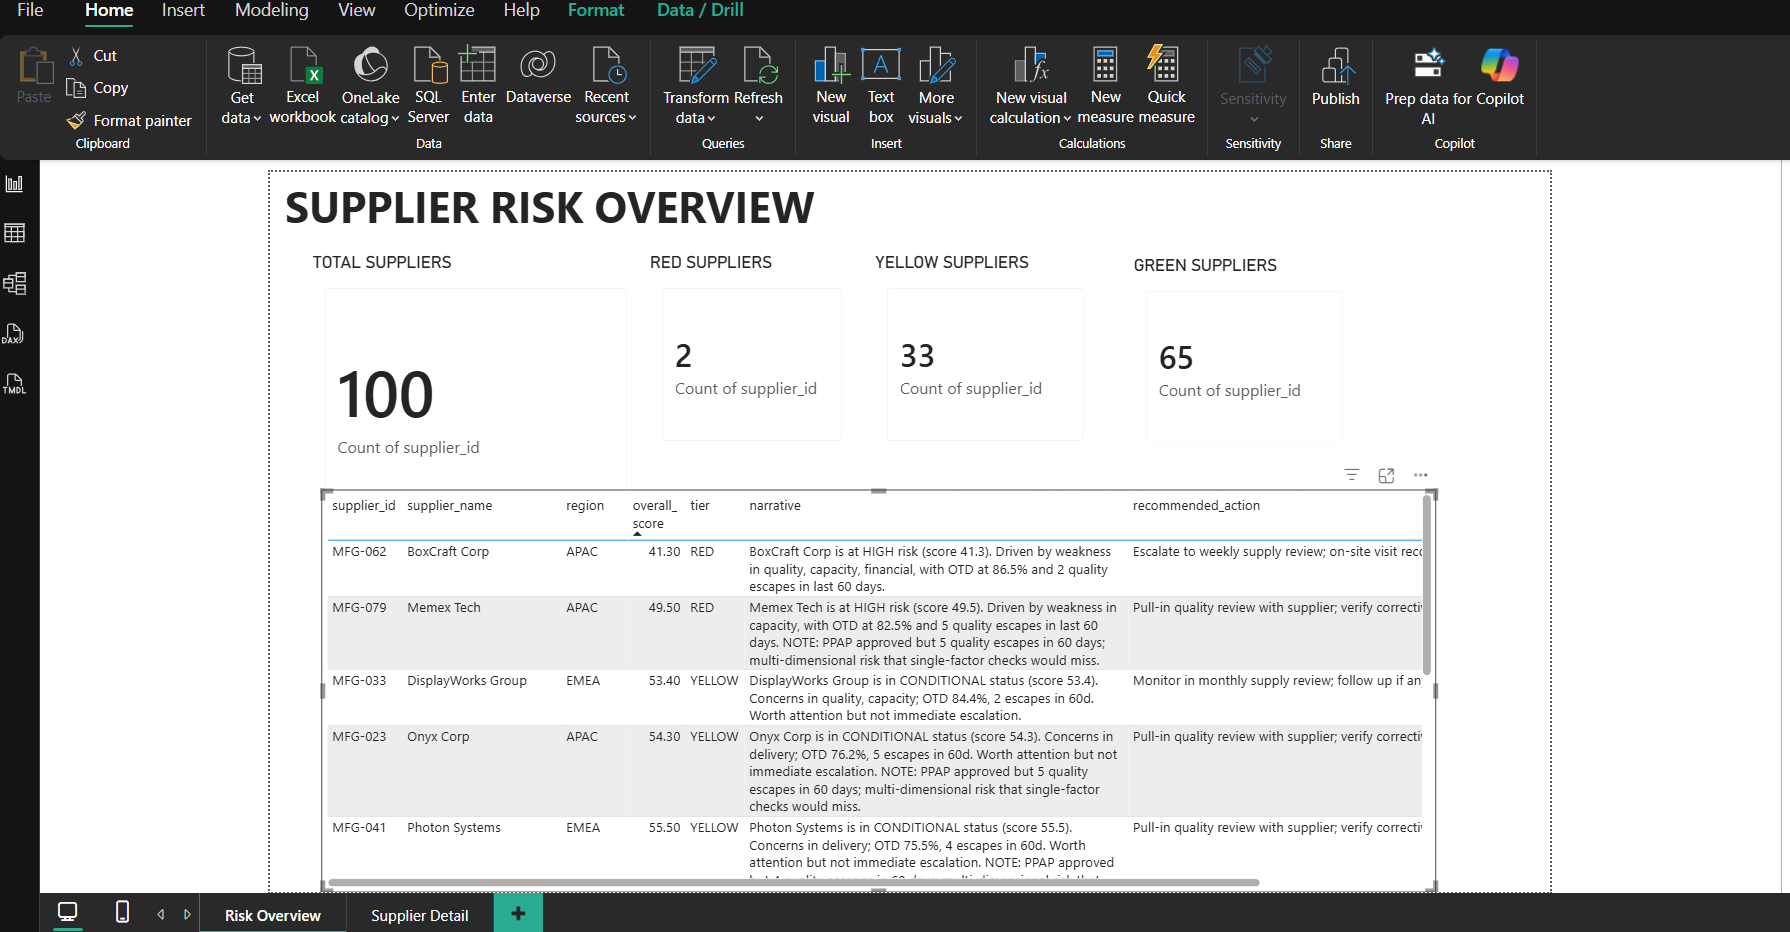

Layout of this report page (visuals, bound fields, positions):
{"tool":"powerbi","page":{"name":"Risk Overview","canvas":[1280,720],"ordinal":0},"visuals":[{"type":"textbox","box":[9.6,0,811,279.9],"z":0},{"type":"cardVisual","title":"TOTAL SUPPLIERS","fields":{"Data":["CountNonNull(suppliers_scored.supplier_id)"]},"box":[37.5,80.5,337.1,280.2],"z":1000},{"type":"cardVisual","title":"RED SUPPLIERS","fields":{"Data":["CountNonNull(suppliers_scored.supplier_id)"]},"box":[374.5,80.5,214.8,206.3],"z":2000},{"type":"cardVisual","title":"YELLOW SUPPLIERS","fields":{"Data":["CountNonNull(suppliers_scored.supplier_id)"]},"box":[600.6,80.5,231.8,206.3],"z":3000},{"type":"cardVisual","title":"GREEN SUPPLIERS","fields":{"Data":["CountNonNull(suppliers_scored.supplier_id)"]},"box":[859.2,82,231.8,204.9],"z":4000},{"type":"tableEx","fields":{"Values":["suppliers_scored.supplier_id","suppliers_scored.supplier_name","suppliers_scored.region","suppliers_scored.overall_score","suppliers_scored.tier","supplier_narratives.narrative","supplier_narratives.recommended_action"]},"box":[69.2,319.4,1115,401.3],"z":5000}]}

Visuals, with their boxes on the page's 1280x720 design canvas (x1, y1, x2, y2). These are canvas units, not pixel positions in the 1790x932 screenshot, which may show the page scaled, cropped or inside an application window:
textbox: <box>10,0,821,280</box>
"TOTAL SUPPLIERS" cardVisual: <box>38,80,375,361</box>
"RED SUPPLIERS" cardVisual: <box>374,80,589,287</box>
"YELLOW SUPPLIERS" cardVisual: <box>601,80,832,287</box>
"GREEN SUPPLIERS" cardVisual: <box>859,82,1091,287</box>
tableEx - suppliers_scored.supplier_id x suppliers_scored.supplier_name: <box>69,319,1184,721</box>
